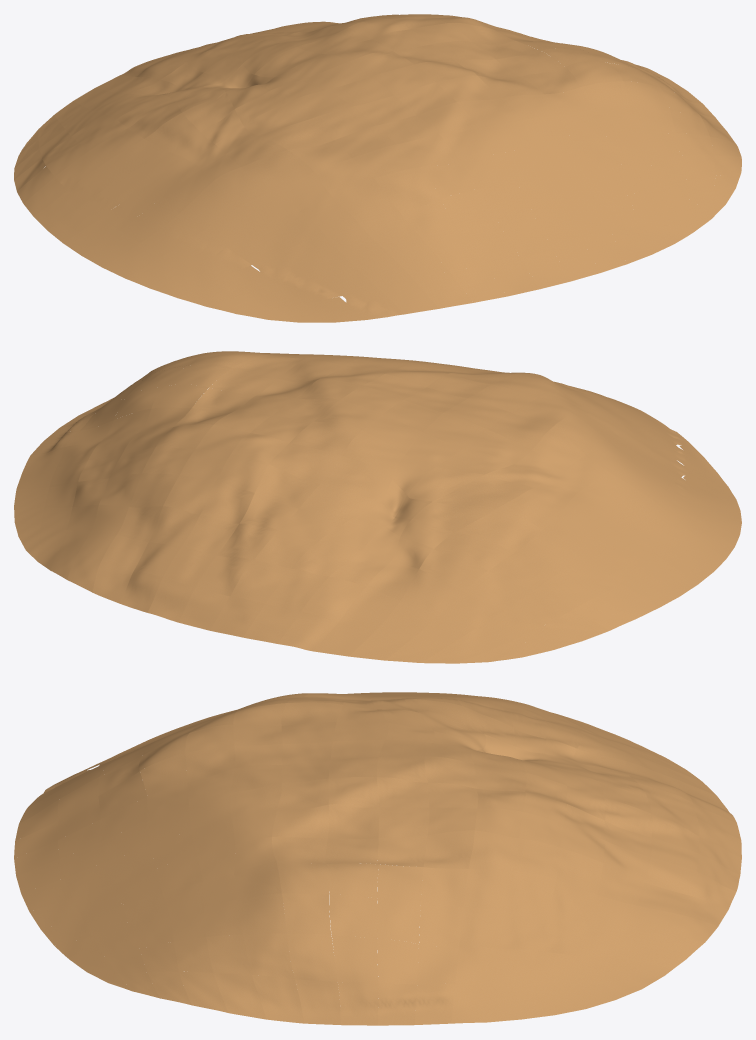
File: sand_raftsurvival.glb
3 renders of one model, top to bottom at view 1: azimuth 30°, elevation 25°; view 2: azimuth 150°, elevation 25°; view 3: azimuth 270°, elevation 25°, orthographic. The views are drawn at different scales.
Visible parts, largest first — view 1: Object_5; view 2: Object_5; view 3: Object_5.
Part boxes in pixels (x1,y1,x2,y2): Object_5: [14, 14, 741, 322]; Object_5: [14, 351, 741, 663]; Object_5: [14, 692, 741, 1025].
Size of the model in its own units: 284 by 50.54 by 262.
Materials: 3 (3 with a texture image).
